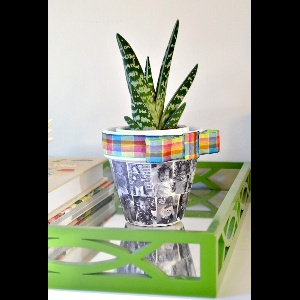flowerpot: (97, 119, 222, 231)
